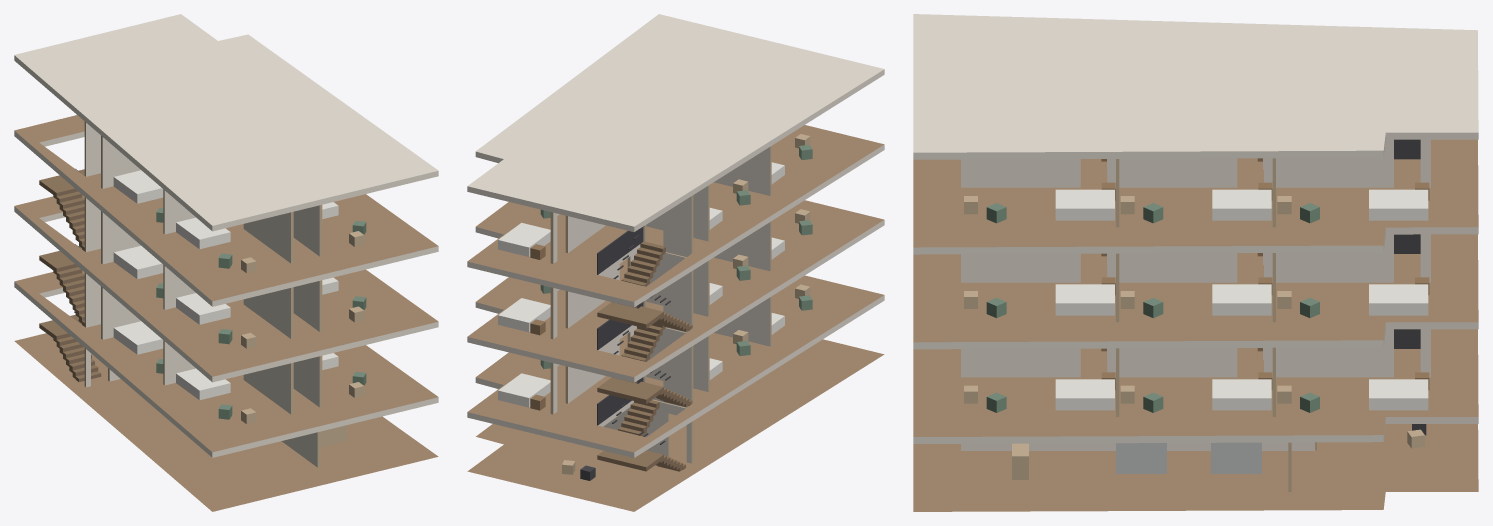
File: interior.glb
3 views of the same model, side by side, from view 1: azimuth 30°, elevation 25°; view 2: azimuth 150°, elevation 25°; view 3: azimuth 270°, elevation 25° (orthographic). The views are drawn at different scales.
Parts seen in each view (by area): view 1: slabs, partitions, stair, coarse-s3, coarse-s1, coarse-s2; view 2: slabs, partitions, stair, coarse-s2, coarse-s3, coarse-s1; view 3: slabs, partitions, coarse-s1, coarse-s3, coarse-s2, coarse-s0, stair.
Boxes of the visible parts, x1,y1,x2,y2 form: slabs: [14, 14, 438, 511]; partitions: [84, 121, 322, 467]; stair: [39, 168, 101, 381]; coarse-s3: [113, 170, 366, 273]; coarse-s1: [113, 321, 366, 424]; coarse-s2: [113, 245, 366, 348]; slabs: [467, 14, 884, 511]; partitions: [550, 146, 771, 463]; stair: [597, 226, 692, 471]; coarse-s2: [498, 209, 812, 335]; coarse-s3: [498, 134, 812, 259]; coarse-s1: [498, 284, 812, 410]; slabs: [913, 14, 1478, 511]; partitions: [961, 139, 1430, 491]; coarse-s1: [964, 348, 1429, 412]; coarse-s3: [964, 158, 1429, 223]; coarse-s2: [964, 253, 1429, 318]; coarse-s0: [1012, 424, 1426, 479]; stair: [1394, 139, 1420, 348].
Size of the model in its own units: 11.05 by 13.36 by 19.02.
